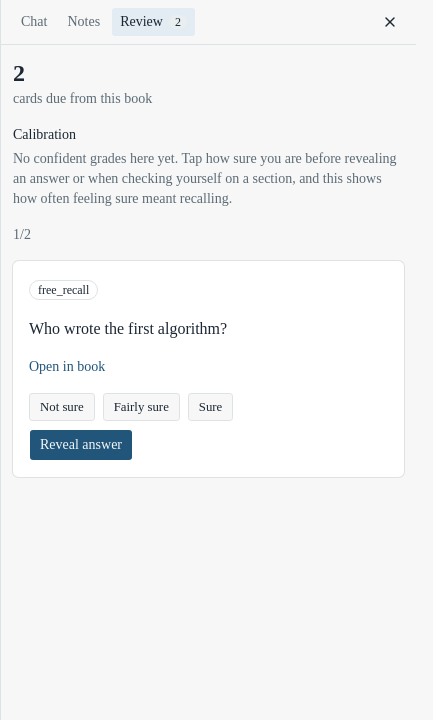
Test: the dock's Review tab › re-reads the book's due count once a card has been graded
Check: the tab "Review2" is shown, box [112,8,195,36]
Check: the text "Who wrote the first algorithm?" is shown, box [29,320,227,337]
Click the button "Reveal answer": {"x": 81, "y": 445} [29,429,133,461]
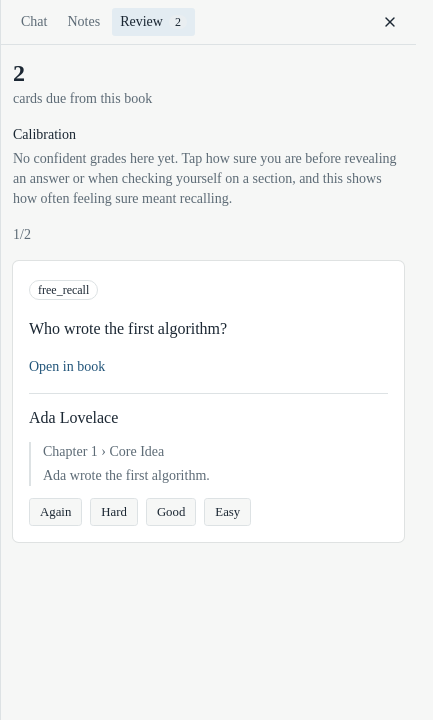
Click the button "Good": {"x": 171, "y": 512} [146,498,196,526]
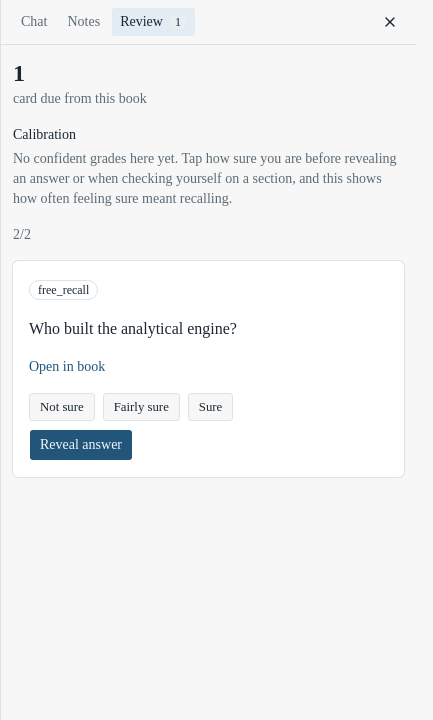
Check: the tab "Review1" is shown, box [112,8,195,36]
Check: the text with test id "due-count" reads "1", box [13,60,25,86]
